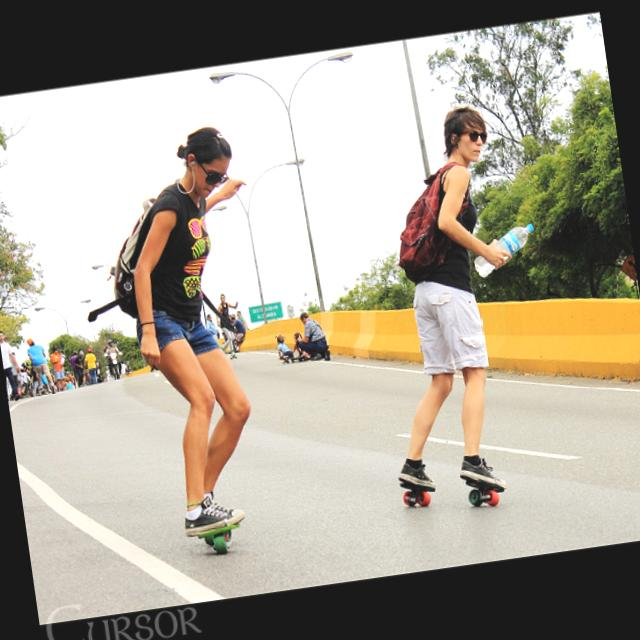Vehicle: (104, 349, 127, 382)
